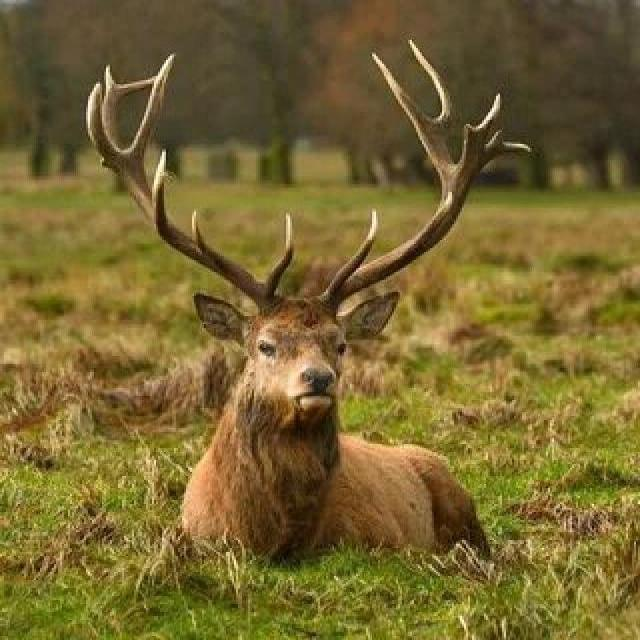deer: (58, 33, 548, 610)
